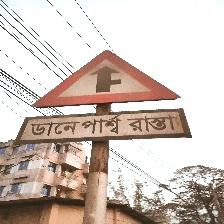Side-road-right: (20, 49, 188, 143)
